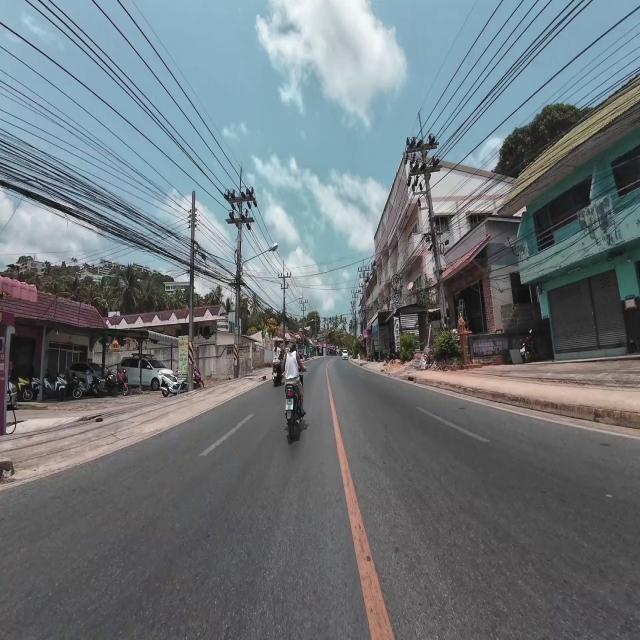car: (342, 350, 348, 359)
motorcycle: (285, 383, 302, 442), (272, 360, 282, 386)
